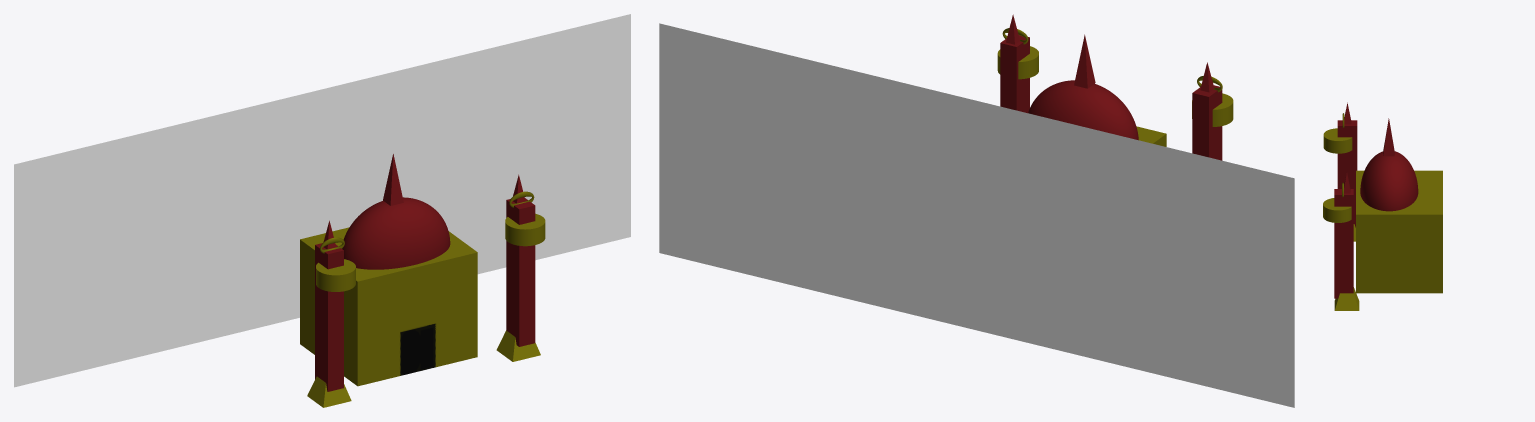
Rendered from G10_Mosque.fbx.
3 renders of one model, left to right at view 1: azimuth 30°, elevation 25°; view 2: azimuth 150°, elevation 25°; view 3: azimuth 270°, elevation 25°, orthographic. The views are drawn at different scales.
Parts seen in each view (by area): view 1: root, node_id100 (×9); view 2: root, node_id100 (×6); view 3: node_id100 (×8).
Part boxes in pixels (x1=…): root: x1=14, y1=14, x2=630, y2=387; node_id100 (×9): x1=300, y1=154, x2=545, y2=407; root: x1=659, y1=23, x2=1294, y2=407; node_id100 (×6): x1=997, y1=34, x2=1233, y2=160; node_id100 (×8): x1=1323, y1=118, x2=1442, y2=310.
Size of the model in its own units: 1.04 by 0.3673 by 0.385.
9 materials, 5 textured.
